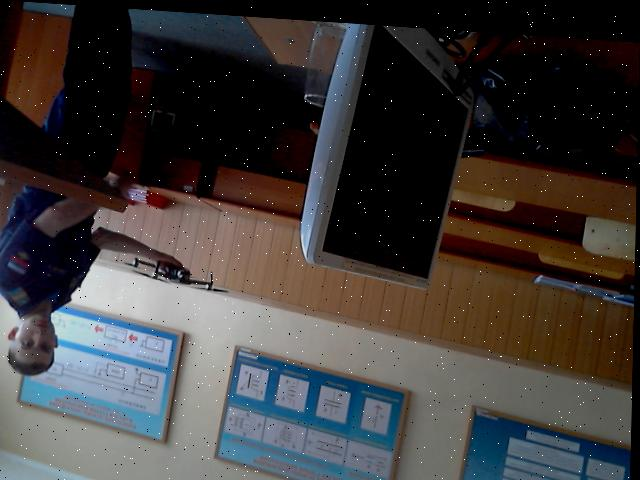drone: (121, 243, 221, 304)
